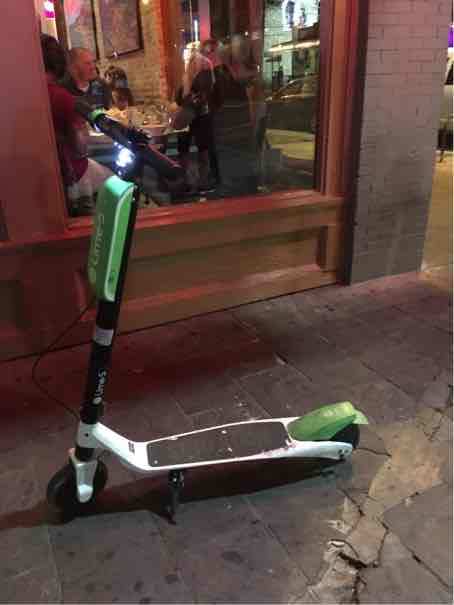scooter: (30, 86, 379, 531)
